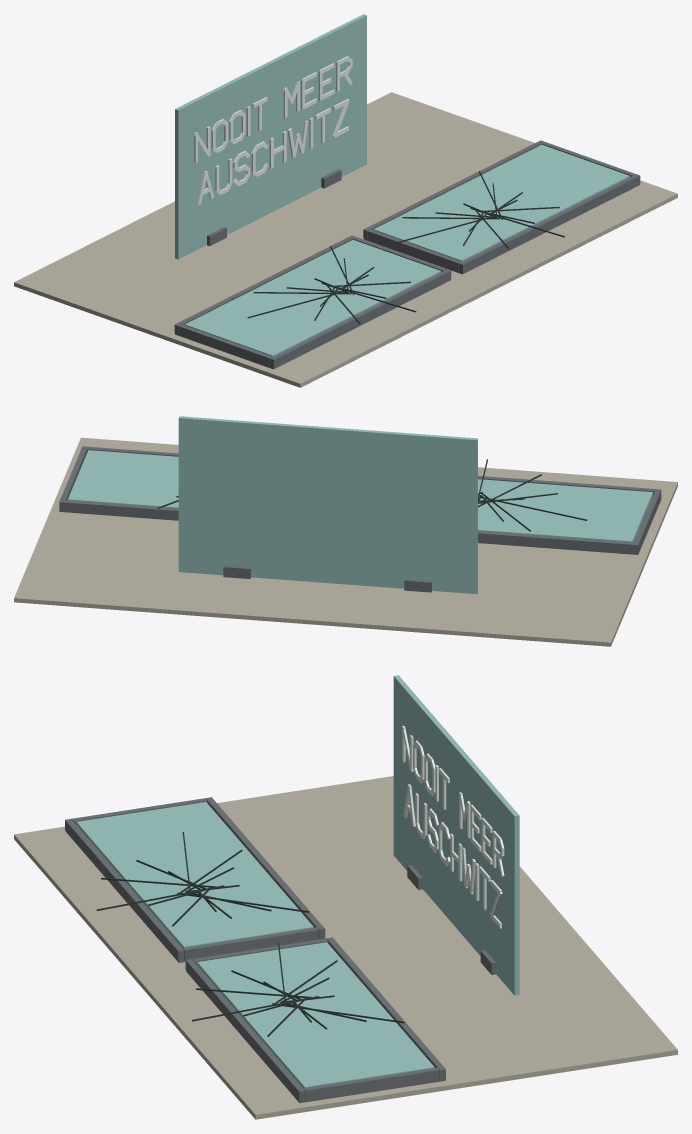
File: auschwitz-monument.glb
3 renders of one model, top to bottom at view 1: azimuth 30°, elevation 25°; view 2: azimuth 150°, elevation 25°; view 3: azimuth 270°, elevation 25°, orthographic. The views are drawn at different scales.
Visible parts, largest first — view 1: auschwitz-monument; view 2: auschwitz-monument; view 3: auschwitz-monument.
Part boxes in pixels (x1,y1,x2,y2): auschwitz-monument: (14, 14, 677, 387); auschwitz-monument: (14, 416, 677, 646); auschwitz-monument: (14, 675, 677, 1119).
Size of the model in its own units: 7.64 by 1.9 by 6.2.
